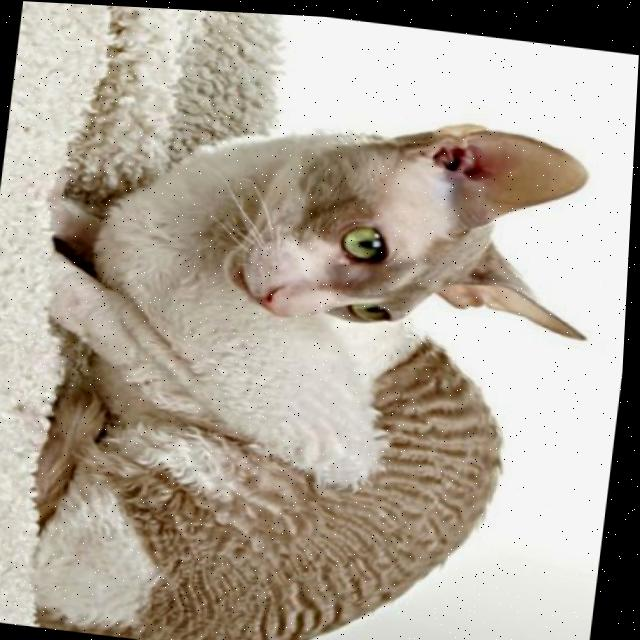Cornish Rex: (0, 65, 619, 640)
